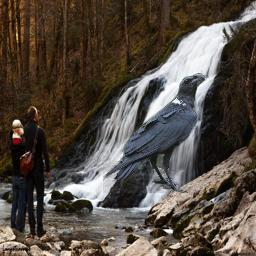Crow: (103, 72, 209, 193)
